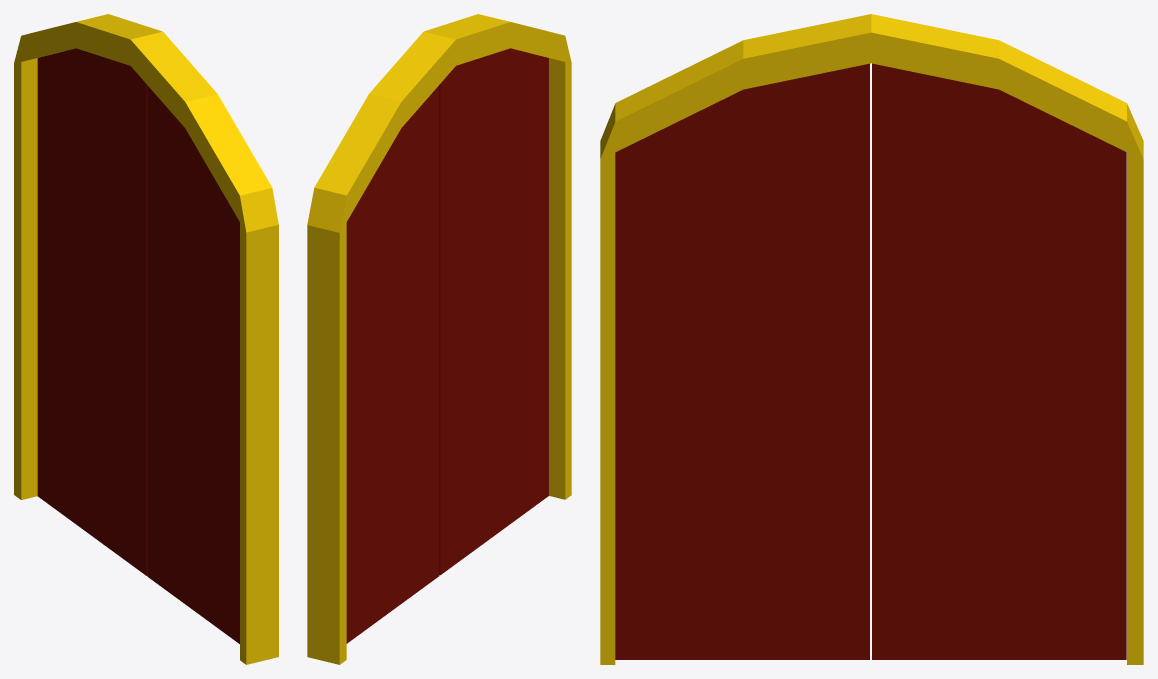
Rendered from door.fbx.
3 views of the same model, side by side, from view 1: azimuth 30°, elevation 25°; view 2: azimuth 150°, elevation 25°; view 3: azimuth 270°, elevation 25° (orthographic). The views are drawn at different scales.
Parts seen in each view (by area): view 1: Left Door, Right Door, Arch; view 2: Right Door, Left Door, Arch; view 3: Left Door, Right Door, Arch.
Boxes of the visible parts, x1,y1,x2,y2 form: Left Door: [37, 48, 147, 575]; Right Door: [147, 85, 239, 643]; Arch: [14, 14, 278, 664]; Right Door: [439, 48, 548, 575]; Left Door: [346, 85, 439, 643]; Arch: [307, 14, 571, 664]; Left Door: [872, 63, 1126, 659]; Right Door: [615, 63, 869, 659]; Arch: [600, 14, 1143, 664].
Size of the model in its own units: 15.13 by 240 by 187.
